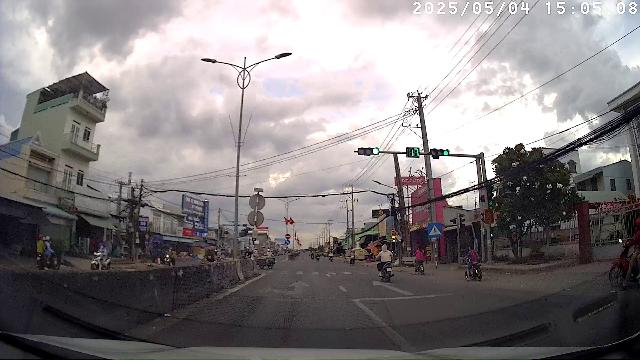102-cam-di-nguoc-chieu: (285, 234, 291, 239)
302a-huong-phai-di-vong-chuong-ngai-vat-1: (285, 239, 290, 245)
423a-duong-nguoi-di-bo-sang-ngang-1: (427, 223, 443, 237)
